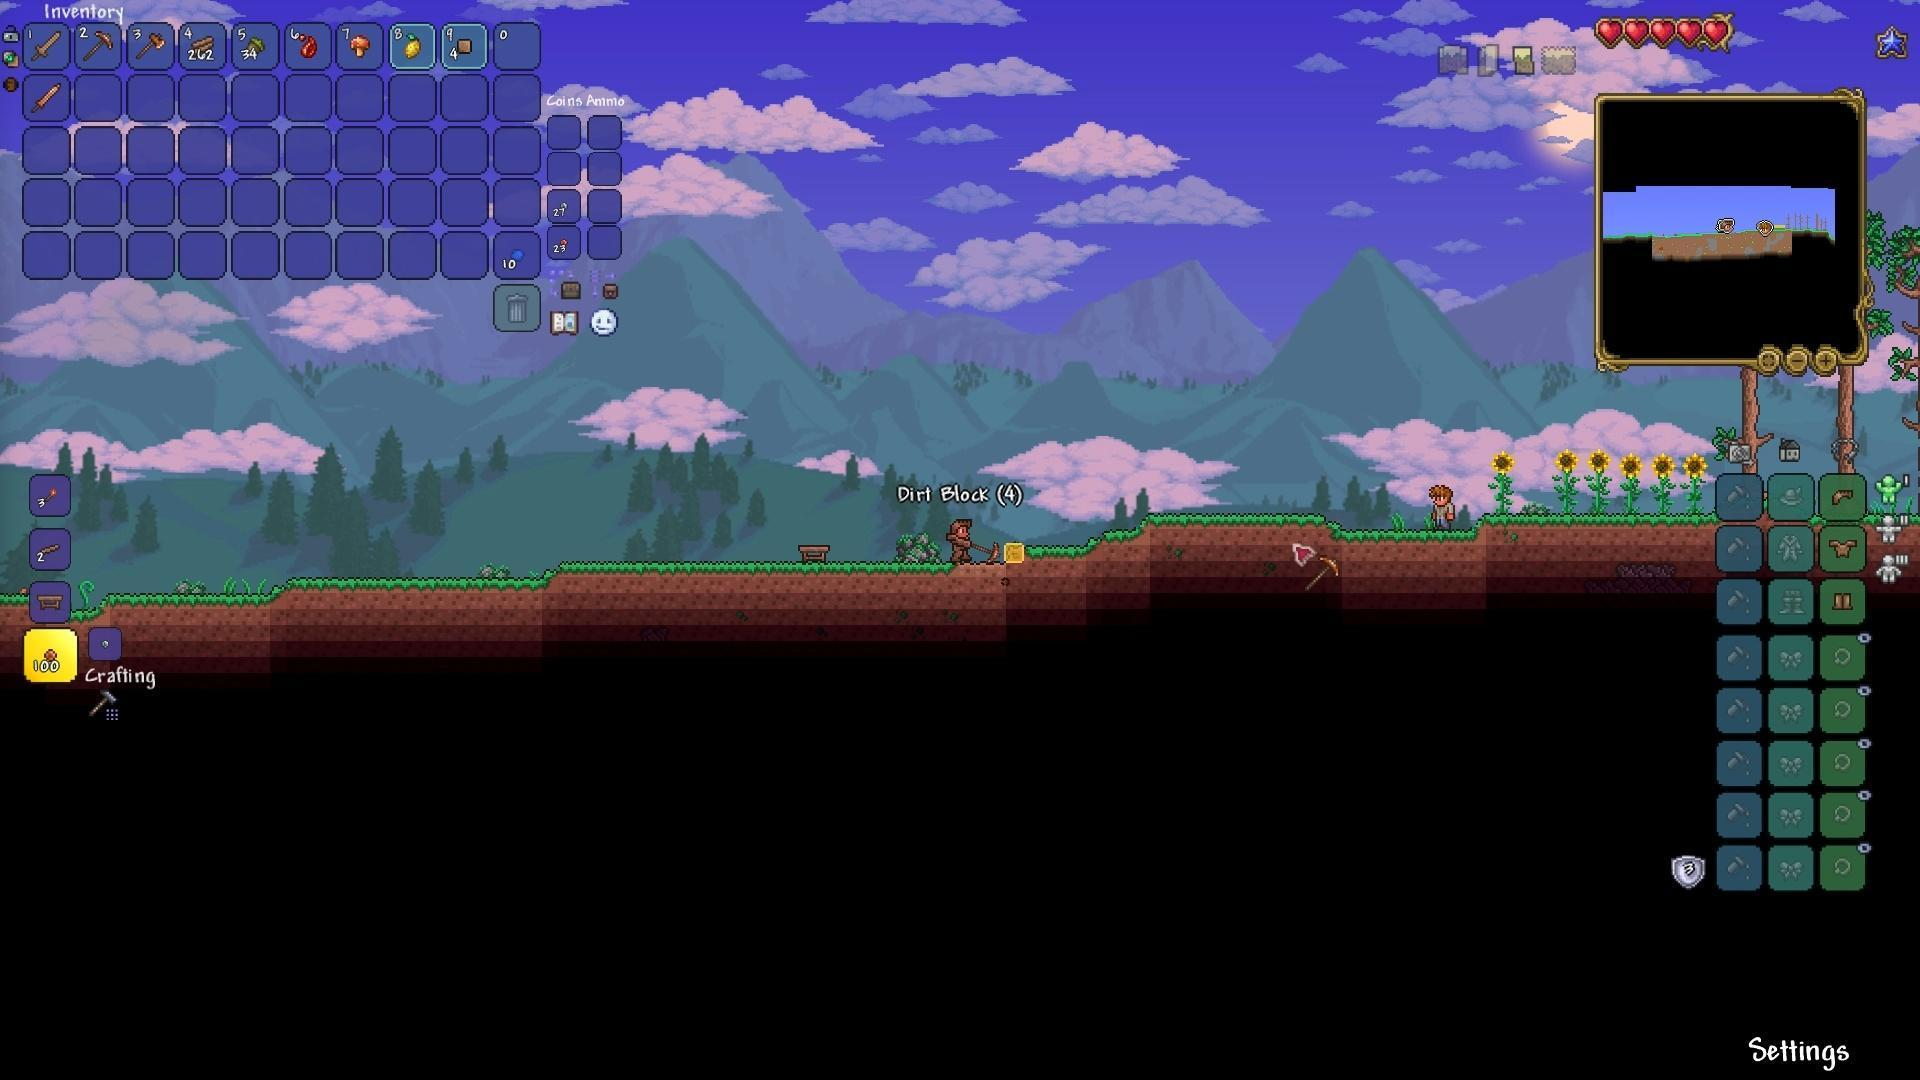dirt: (79, 558, 564, 633), (534, 549, 1010, 608), (1477, 509, 1717, 549), (1145, 501, 1338, 550), (1010, 524, 1139, 574), (1338, 517, 1481, 555)
heart: (1597, 16, 1625, 46), (1704, 18, 1730, 49), (1677, 18, 1704, 49), (1650, 18, 1676, 49), (1626, 18, 1652, 49)
